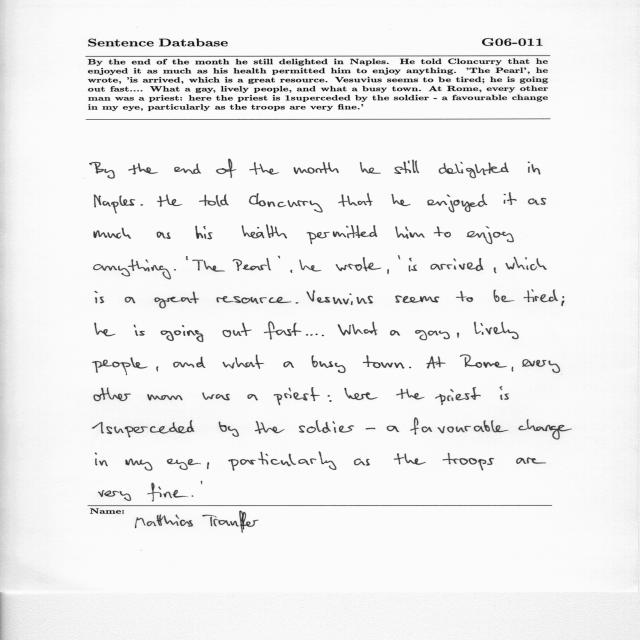word: (229, 452, 337, 471), (93, 420, 195, 437), (410, 418, 509, 435), (93, 260, 171, 280), (249, 193, 323, 213), (307, 225, 378, 244), (518, 419, 572, 440), (439, 162, 509, 178), (428, 194, 488, 212), (306, 290, 373, 305), (93, 357, 148, 375), (443, 453, 494, 470), (467, 226, 514, 244), (273, 387, 320, 405), (435, 387, 481, 405), (147, 483, 189, 502), (95, 195, 136, 214), (155, 292, 200, 309), (474, 322, 519, 339), (161, 325, 204, 342), (299, 420, 354, 433), (431, 258, 484, 271), (264, 322, 301, 340), (336, 257, 381, 271), (311, 355, 346, 373), (460, 355, 507, 368), (217, 296, 292, 304), (223, 355, 265, 369), (242, 225, 287, 238), (363, 355, 404, 369), (338, 322, 378, 336), (505, 257, 547, 270), (294, 162, 339, 174), (522, 359, 560, 373), (94, 388, 131, 402), (233, 258, 271, 271), (338, 193, 373, 207), (89, 162, 115, 179), (524, 290, 558, 302), (344, 388, 378, 400), (94, 228, 131, 239), (223, 323, 252, 337), (192, 260, 225, 272), (249, 162, 279, 175), (199, 194, 229, 207), (395, 226, 425, 239), (255, 421, 285, 434), (173, 356, 205, 368), (394, 453, 426, 465), (216, 159, 236, 178), (167, 459, 201, 470), (125, 458, 153, 471), (99, 490, 132, 501), (128, 163, 158, 175), (396, 295, 440, 303), (394, 160, 419, 174), (415, 330, 450, 340), (157, 194, 182, 207), (396, 389, 425, 400), (219, 422, 239, 437), (299, 260, 322, 272), (95, 323, 116, 336), (174, 164, 201, 174), (426, 356, 446, 369), (360, 162, 381, 174), (494, 290, 515, 302), (147, 394, 183, 401), (195, 226, 213, 239), (392, 194, 411, 206), (202, 393, 230, 401), (516, 457, 546, 464), (433, 227, 451, 238), (456, 291, 473, 302), (95, 453, 108, 467), (528, 162, 541, 175), (504, 192, 517, 205), (134, 324, 145, 336), (354, 458, 370, 466), (528, 198, 546, 205), (500, 386, 509, 400), (409, 258, 417, 272), (95, 291, 104, 303), (157, 232, 171, 239), (125, 297, 136, 304), (283, 361, 294, 368), (247, 394, 258, 401), (387, 426, 399, 432), (390, 330, 400, 336), (306, 333, 318, 336), (327, 395, 332, 402), (562, 296, 565, 306), (366, 428, 376, 430), (207, 462, 209, 469), (494, 267, 496, 273), (457, 332, 459, 338), (387, 269, 389, 274), (156, 367, 158, 372), (512, 367, 514, 372), (186, 256, 188, 260), (290, 269, 292, 273), (398, 256, 400, 260), (140, 204, 143, 206), (278, 256, 280, 259), (296, 302, 299, 304), (201, 481, 203, 484), (174, 269, 176, 271), (192, 495, 194, 497), (322, 335, 324, 336), (409, 367, 411, 368)
